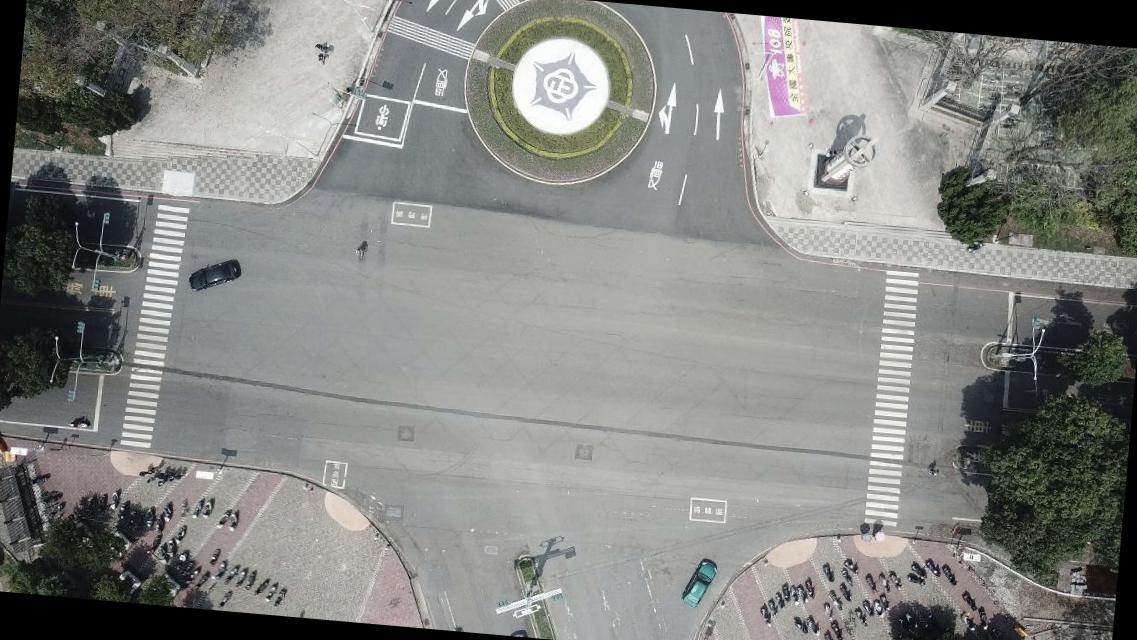vehicle: (676, 556, 719, 610), (184, 258, 240, 296)
